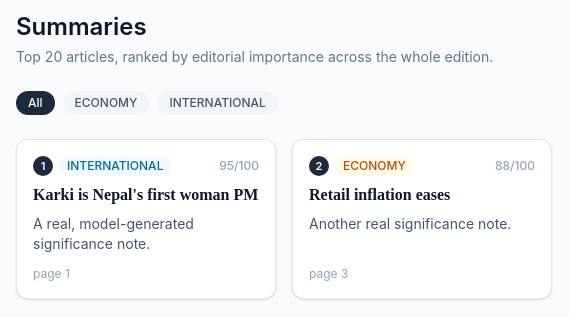
Test: Summaries page › renders real ranked cards from the API, sorted by rank, with a working category filter
Expected: the heading "Karki is Nepal's first woman PM" is shown, [33,184,259,206]
Expected: the heading "Retail inflation eases" is shown, [309,186,450,203]
# Filtering to ECONOMY should hide the INTERNATIONAL card.
Step 1. Click the button "ECONOMY" → (106,103), box [63,91,149,115]
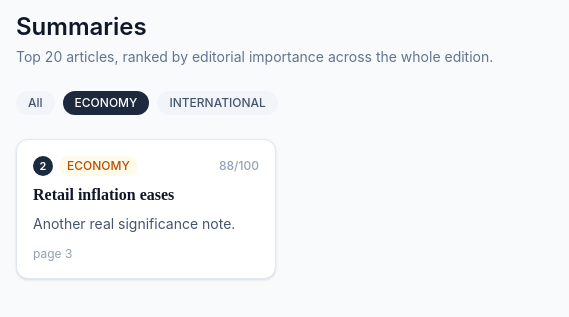
Expected: the heading "Retail inflation eases" is shown, [33,186,174,203]
Expected: the heading "Karki is Nepal's first woman PM" is gone
